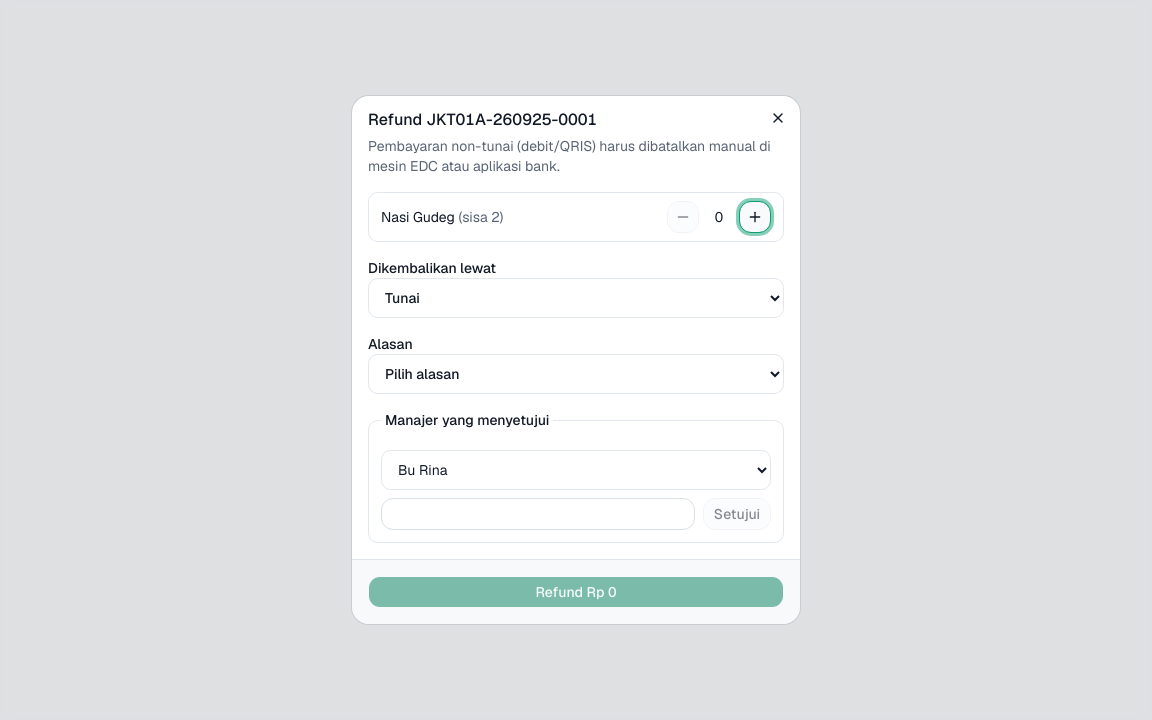
RefundDialog (ADR-023) › rejects a wrong manager PIN
Step 1. Type "0000" into the password field named "PIN manajer" → (538, 514), box [381,498,695,530]
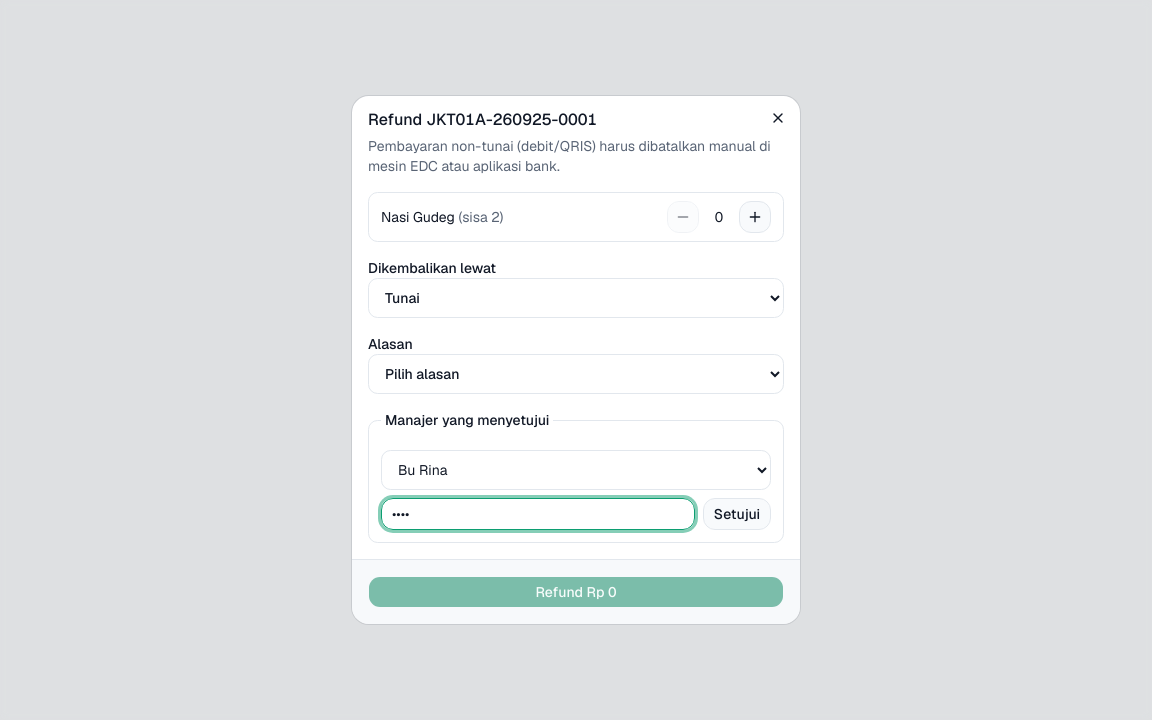
Step 2. Click the button "Setujui" → (737, 514), box [703,498,771,530]
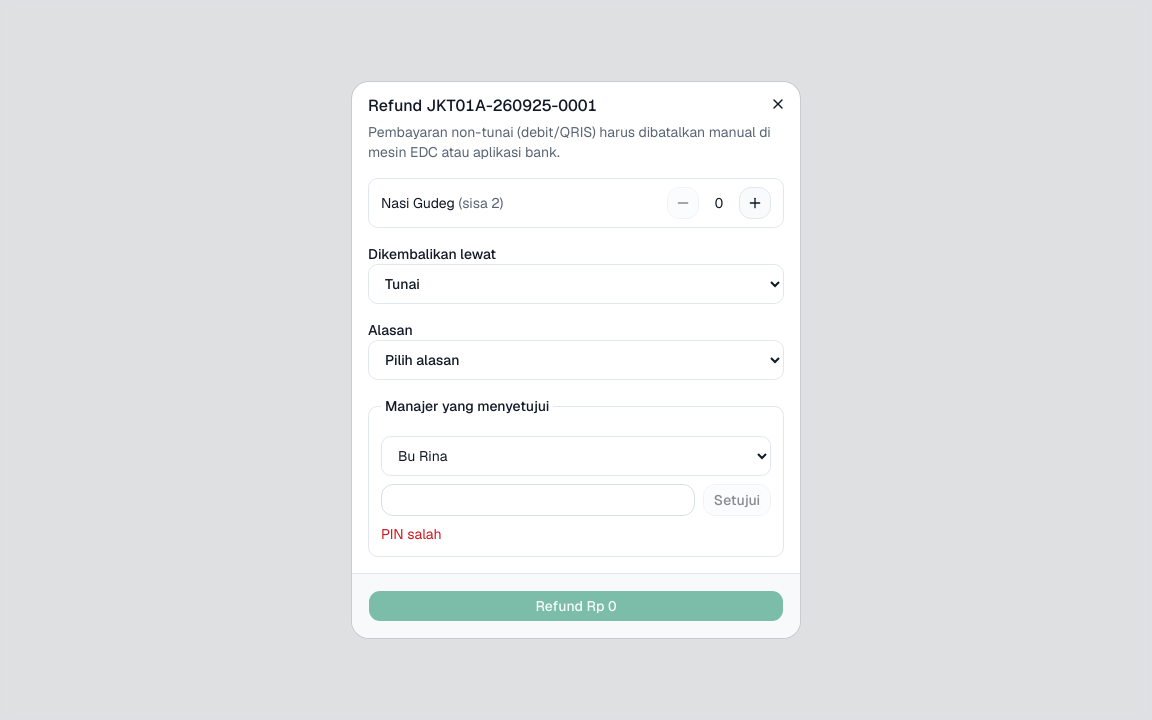
Expected: the text "PIN salah" is shown, [381,525,442,543]
